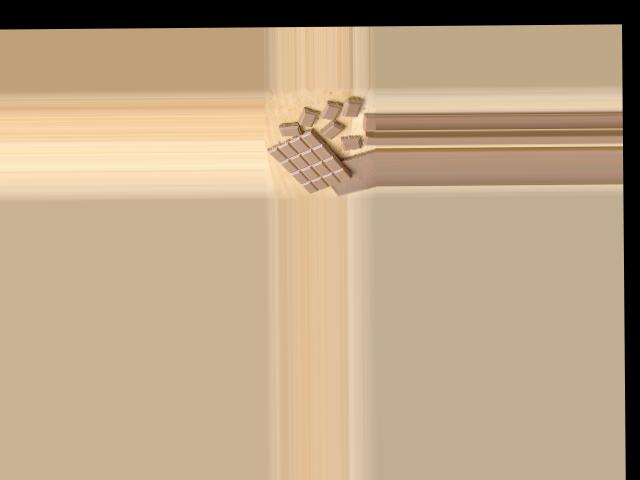chocolate: (269, 125, 352, 194)
